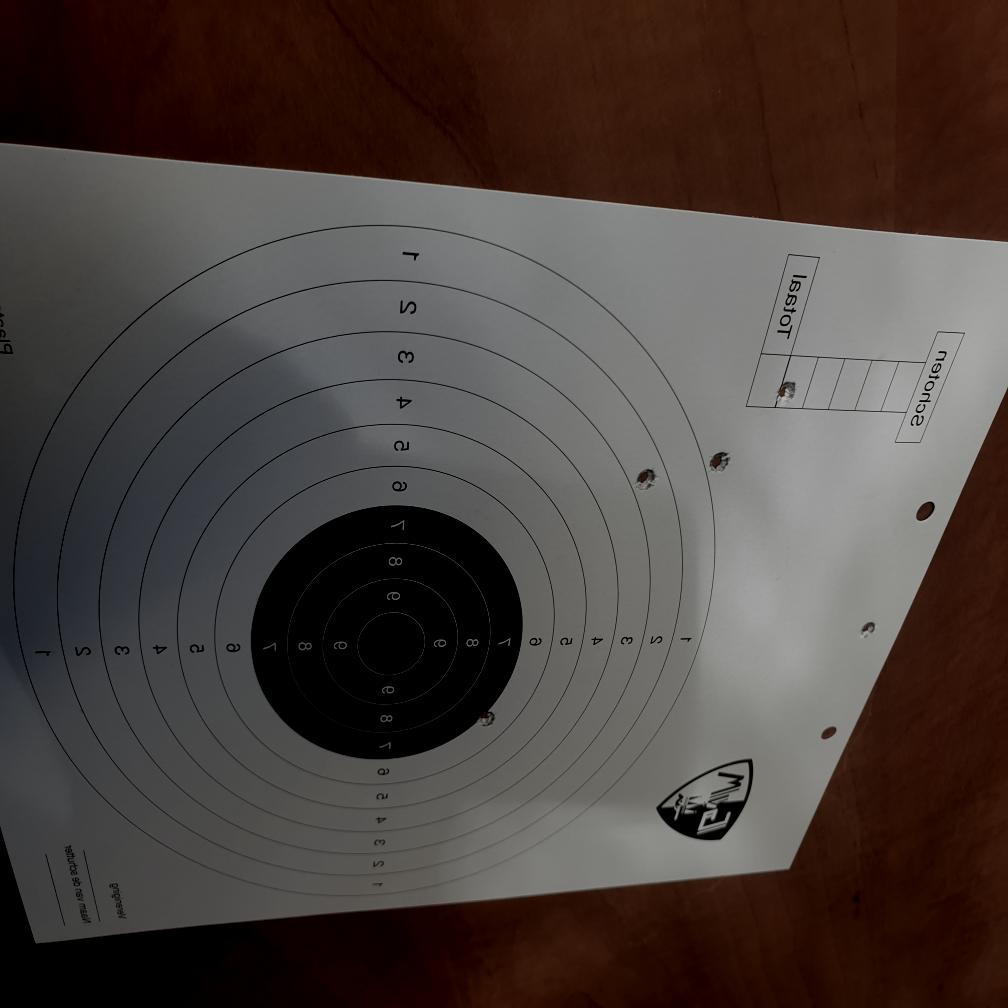0: (708, 449, 732, 476), (776, 380, 797, 405), (859, 619, 877, 640)
2: (634, 465, 659, 494)
7: (476, 710, 496, 729)
Target: (8, 219, 720, 901)
black_contour: (250, 504, 524, 762)
